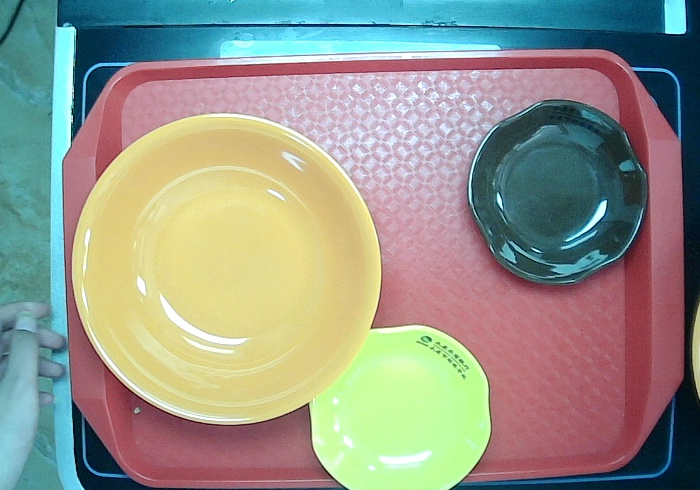YKMZ-Huang_Se_Ao_Bian_Wan: (302, 312, 500, 489)
YKMZ-Ju_Se_Tang_Wan: (63, 105, 393, 436)
YKMZ-Ka_Fei_Ao_Bian_Wan: (454, 89, 652, 291)
